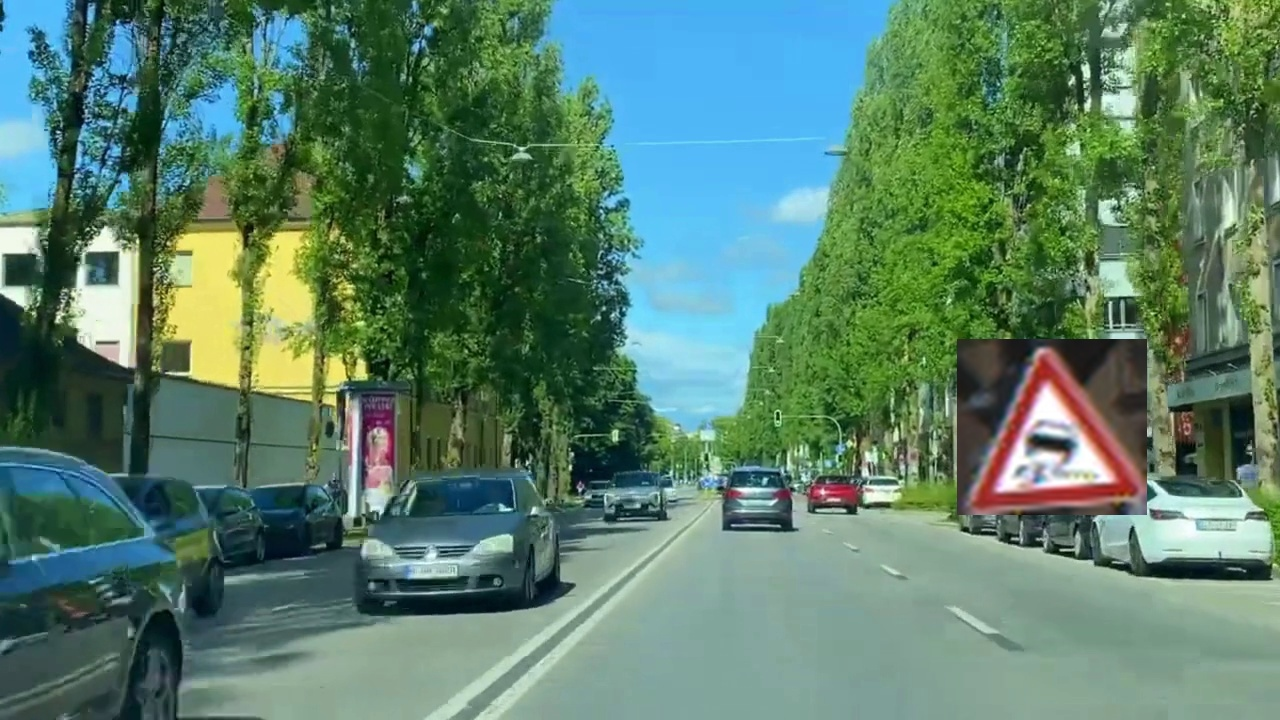Slippery: (957, 339, 1147, 515)
